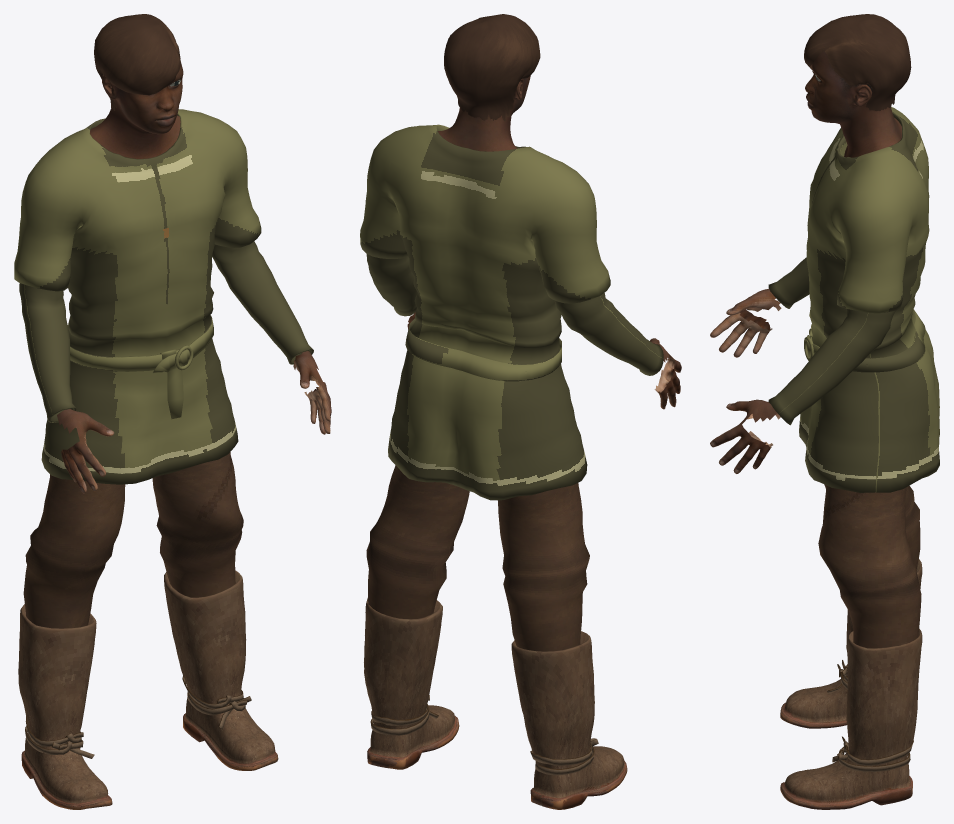
File: tavin-field-tunic.glb
3 renders of one model, left to right at view 1: azimuth 30°, elevation 25°; view 2: azimuth 150°, elevation 25°; view 3: azimuth 270°, elevation 25°, orthographic. The views are drawn at different scales.
Parts seen in each view (by area): view 1: tavin-field-tunic runtime mesh; view 2: tavin-field-tunic runtime mesh; view 3: tavin-field-tunic runtime mesh.
Part boxes in pixels (left/top/right/bottom): tavin-field-tunic runtime mesh: left=14, top=14, right=331, bottom=809; tavin-field-tunic runtime mesh: left=360, top=14, right=681, bottom=809; tavin-field-tunic runtime mesh: left=710, top=14, right=939, bottom=809.
Size of the model in its own units: 0.6873 by 1.85 by 0.5224.
8 materials, 7 textured.
